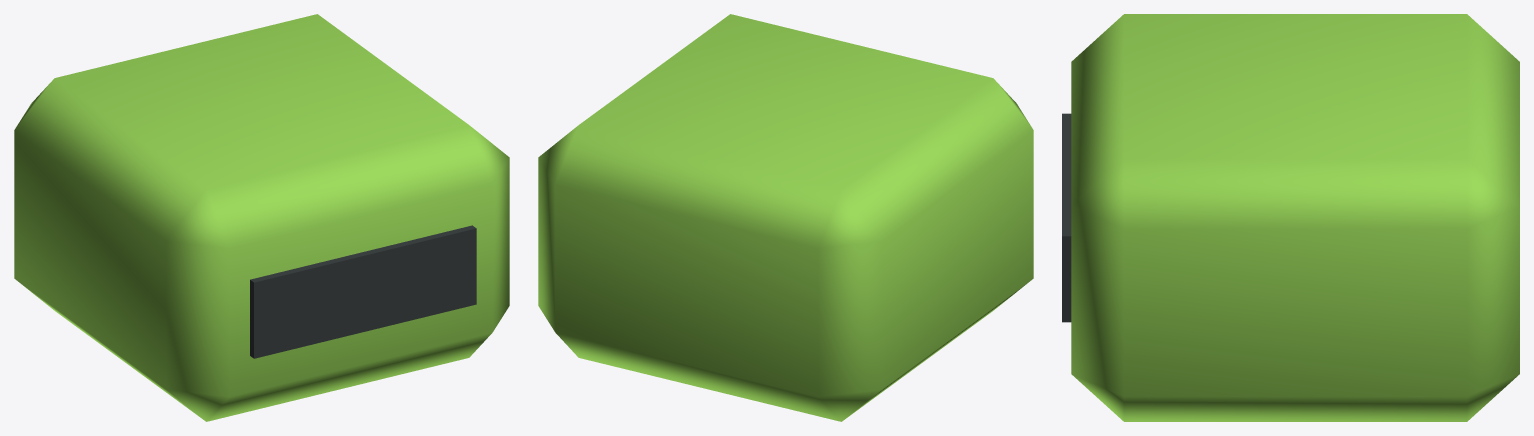
Rendered from traction.glb.
The picture shows the model from 3 angles, left to right: view 1: azimuth 30°, elevation 25°; view 2: azimuth 150°, elevation 25°; view 3: azimuth 270°, elevation 25°; orthographic projection. The views are drawn at different scales.
Parts seen in each view (by area): view 1: Traction pickup.005, Grip symbol.005; view 2: Traction pickup.005; view 3: Traction pickup.005, Grip symbol.005.
Boxes of the visible parts, x1,y1,x2,y2 form: Traction pickup.005: (14,14,509,421); Grip symbol.005: (250,225,476,358); Traction pickup.005: (538,14,1033,421); Traction pickup.005: (1071,14,1519,421); Grip symbol.005: (1062,113,1071,322).
Size of the model in its own units: 0.85 by 0.55 by 0.8675.
